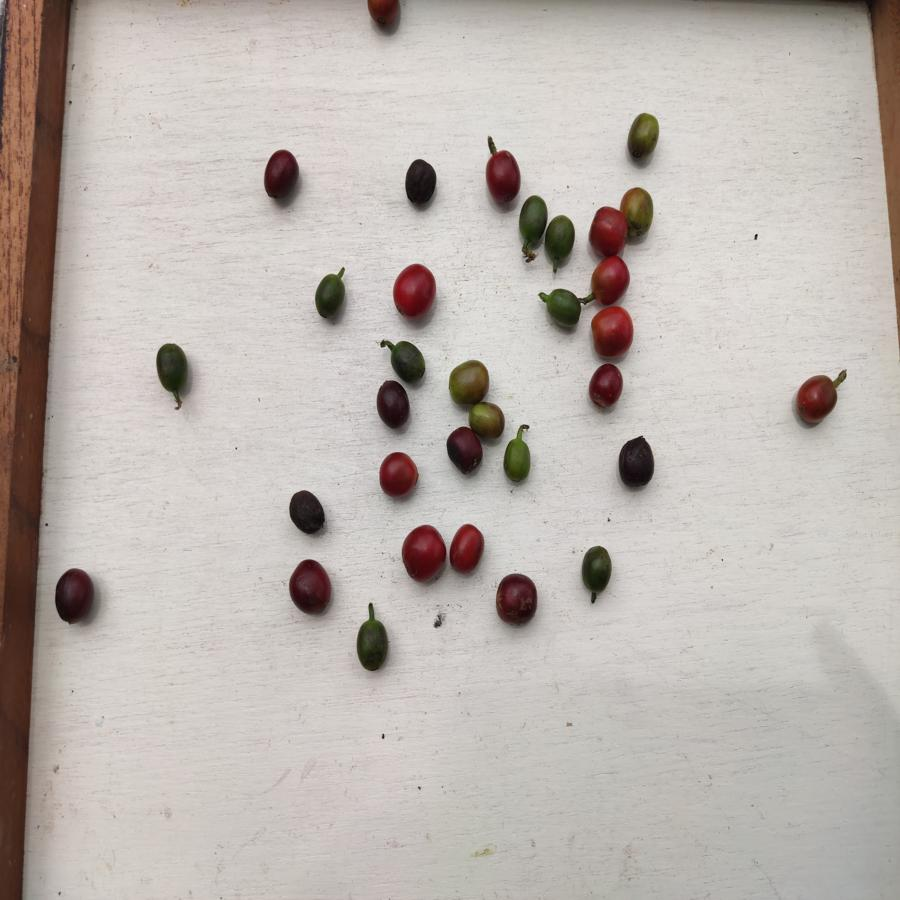Inmaduro: (580, 543, 613, 604), (154, 343, 190, 395), (356, 618, 390, 673), (313, 272, 347, 321), (545, 287, 582, 331), (390, 338, 427, 380), (518, 194, 548, 245), (546, 213, 576, 263), (502, 438, 533, 486)
Maduro: (400, 527, 446, 583), (589, 303, 635, 358), (795, 374, 840, 427), (392, 264, 437, 317), (448, 522, 485, 577), (585, 207, 627, 255), (589, 256, 631, 304), (376, 453, 419, 496), (587, 364, 624, 408), (368, 1, 402, 28)
Pinton: (446, 359, 491, 404), (626, 113, 661, 162), (624, 188, 655, 240), (470, 401, 508, 438)
Sobremaduro: (288, 556, 332, 615), (54, 568, 96, 627), (493, 572, 538, 627), (482, 149, 521, 208), (617, 435, 657, 491), (372, 380, 417, 428), (263, 149, 299, 204), (288, 490, 327, 536), (444, 427, 480, 475), (404, 159, 438, 208)
